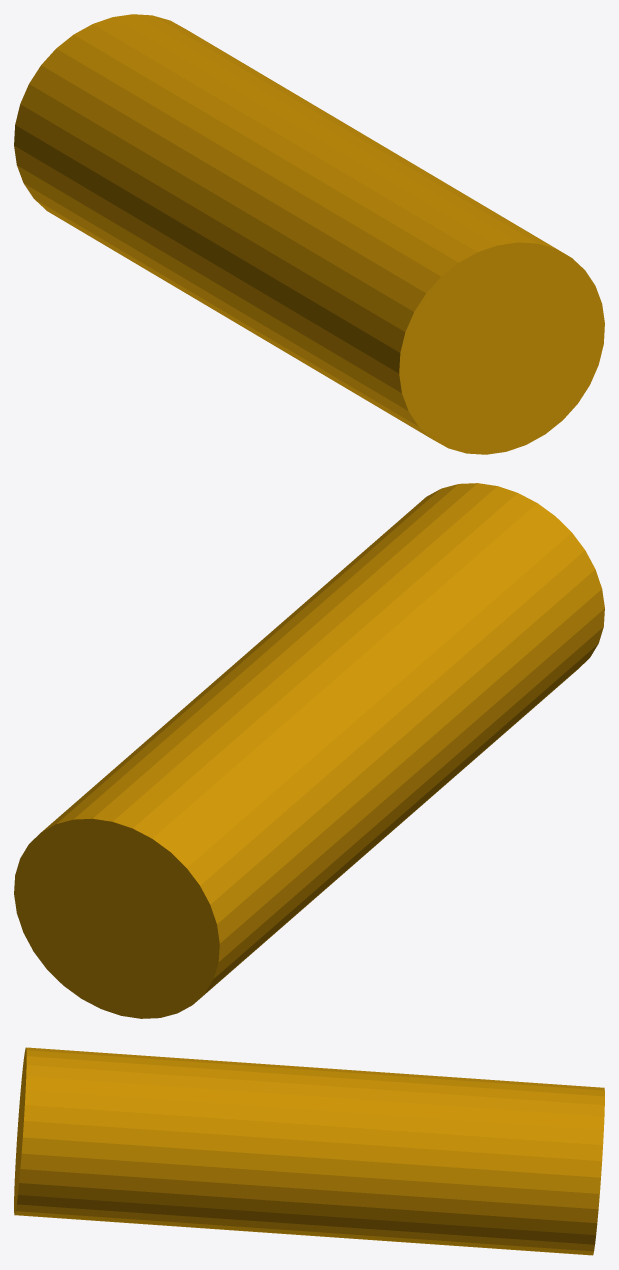
Rendered from bullet.obj.
3 views of the same model, one above another, from view 1: azimuth 30°, elevation 25°; view 2: azimuth 150°, elevation 25°; view 3: azimuth 270°, elevation 25° (orthographic). The views are drawn at different scales.
Visible parts, largest first — view 1: Bullet; view 2: Bullet; view 3: Bullet.
Boxes of the visible parts, left/top/right/bottom form: Bullet: left=14, top=14, right=604, bottom=454; Bullet: left=14, top=483, right=604, bottom=1018; Bullet: left=14, top=1047, right=604, bottom=1255.
Bounding box in the file's own units: 0.0188 × 0.0222 × 0.0623.
